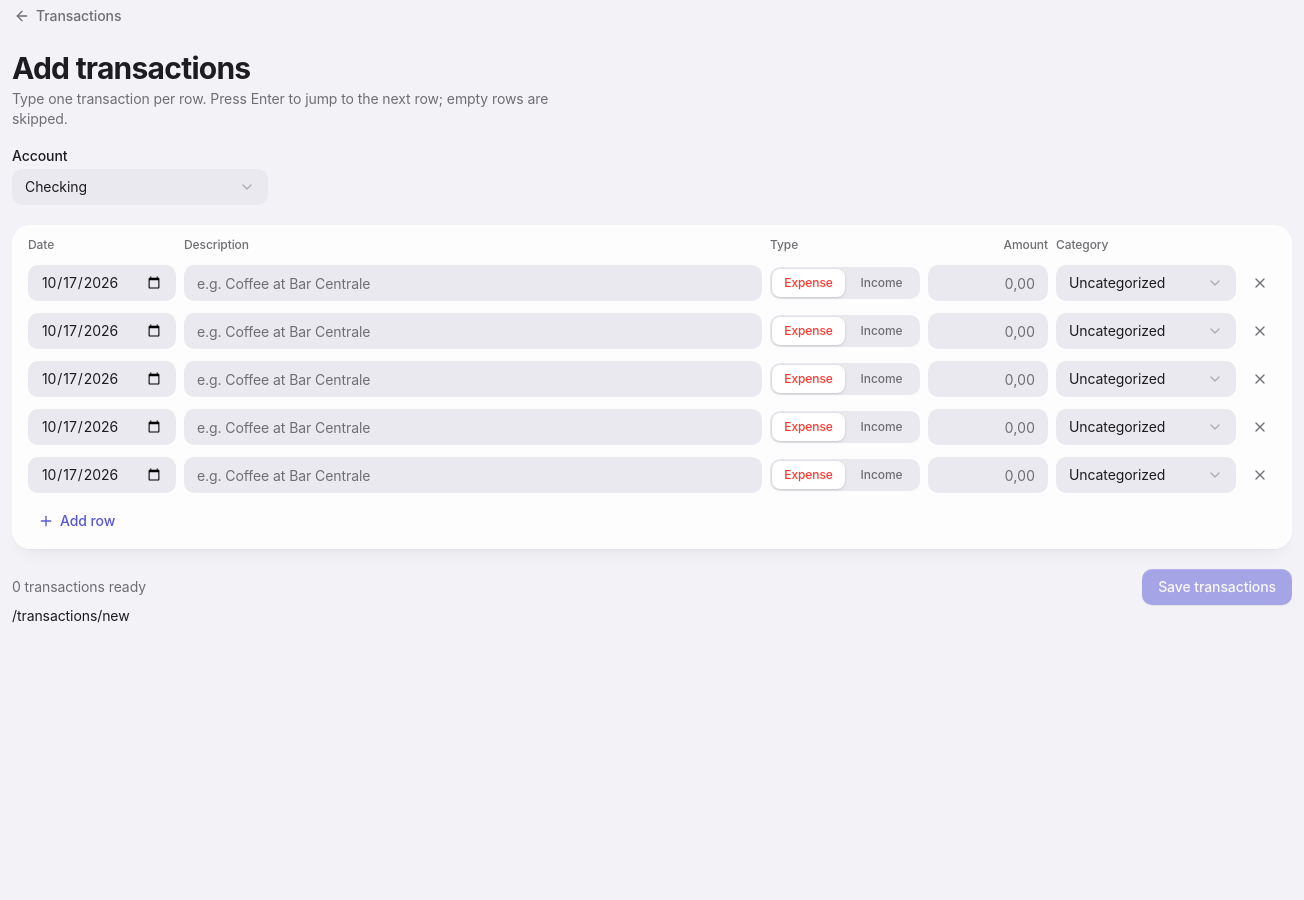
Test case: Bulk add › adds a row with Enter on the last row and focuses its date
Type "2026-02-03" into the date field named "Row 5: Date" at coordinates (102, 475), box [28,457,176,493]
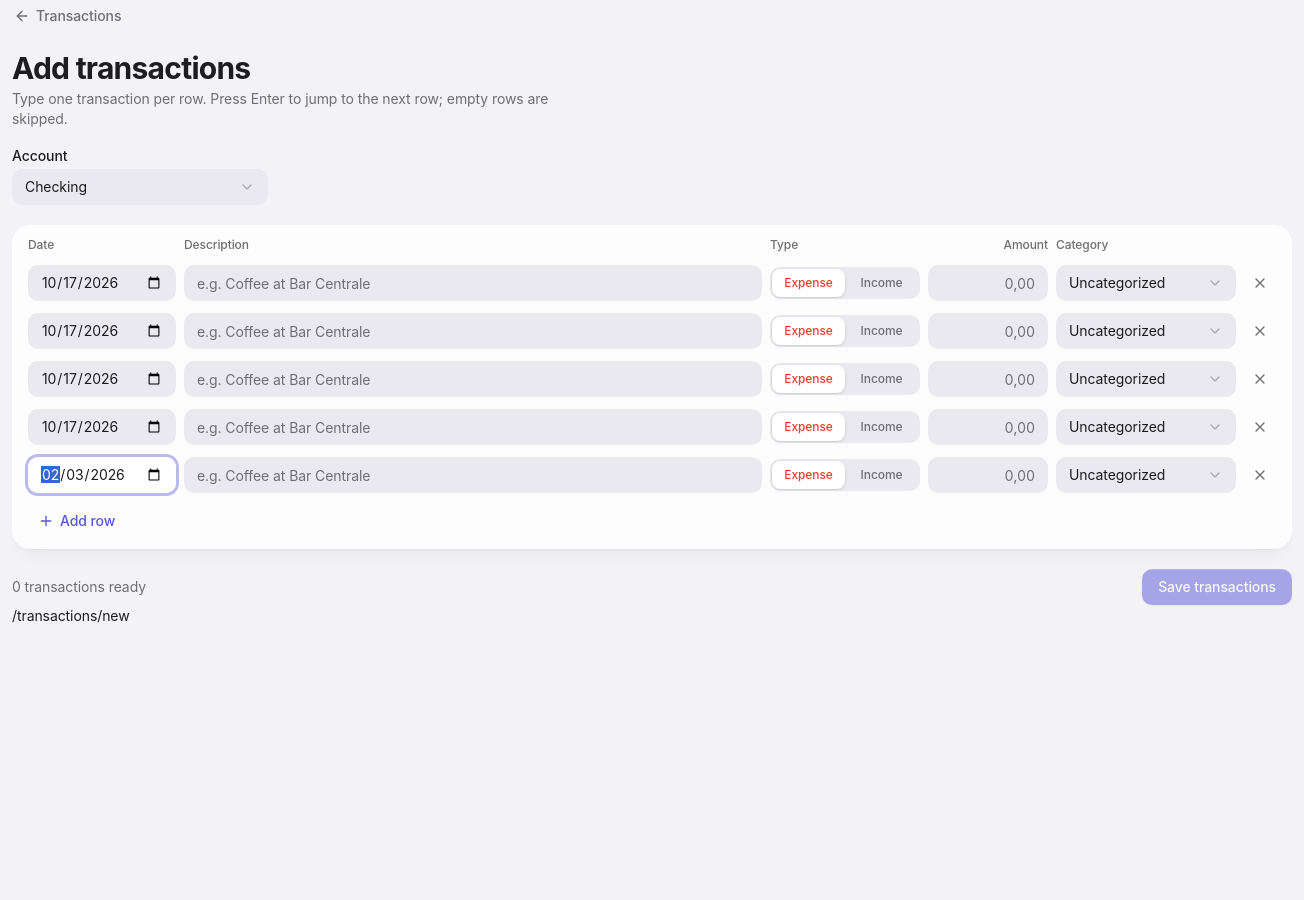
Type "Taxi" into the field named "Row 5: Description" at coordinates (473, 475), box [184,457,762,493]
Then press Enter
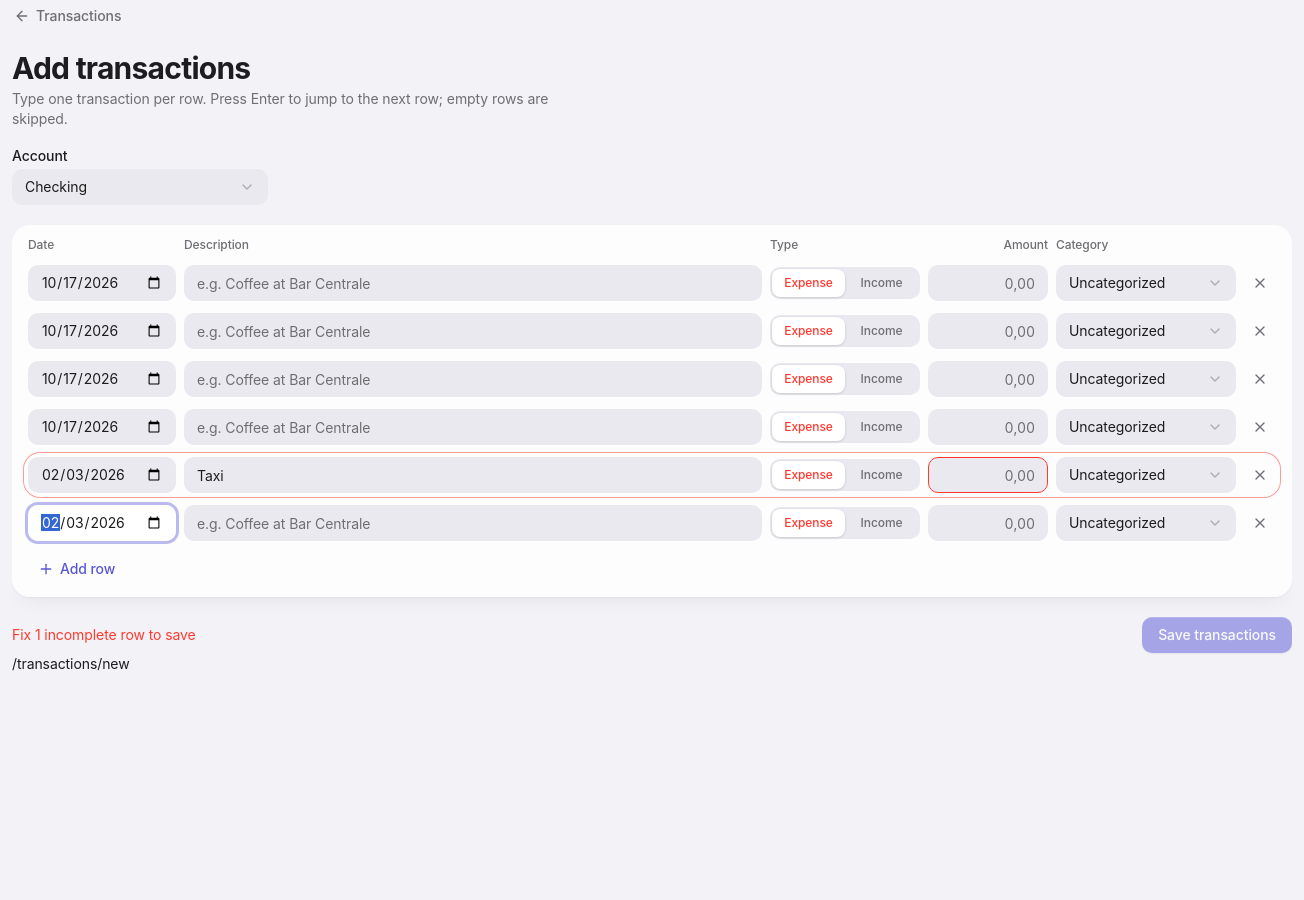
Result: the number of list items is 6 at [24,261,1280,305]; [24,309,1280,353]; [24,357,1280,401]; [24,405,1280,449]; [24,453,1280,497]; [24,501,1280,545]
Result: the date field named "Row 6: Date" holds "2026-02-03" at [28,505,176,541]
